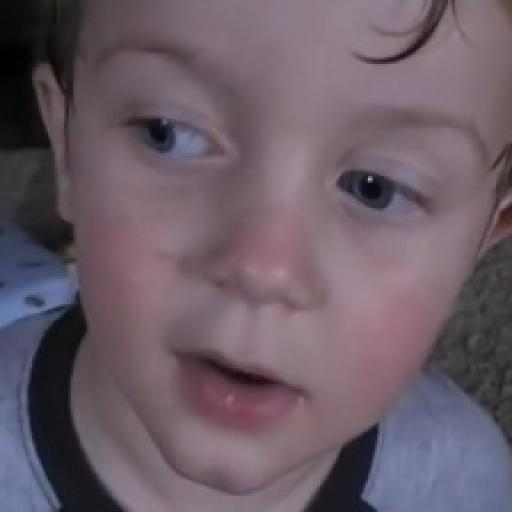Autism: (30, 0, 498, 505)
